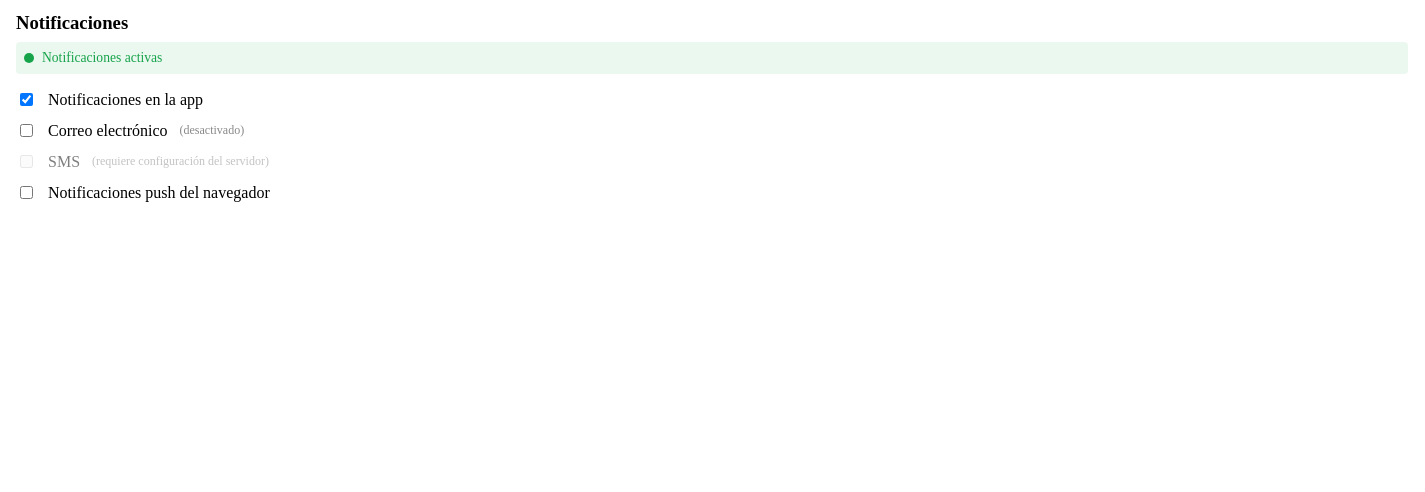
Test: NotificationSettingsForm › DeviceList renders after successful subscribe
The image size is (1425, 492).
Click the checkbox labelled "Notificaciones push del navegador" at (26, 192), box [20,186,33,199]
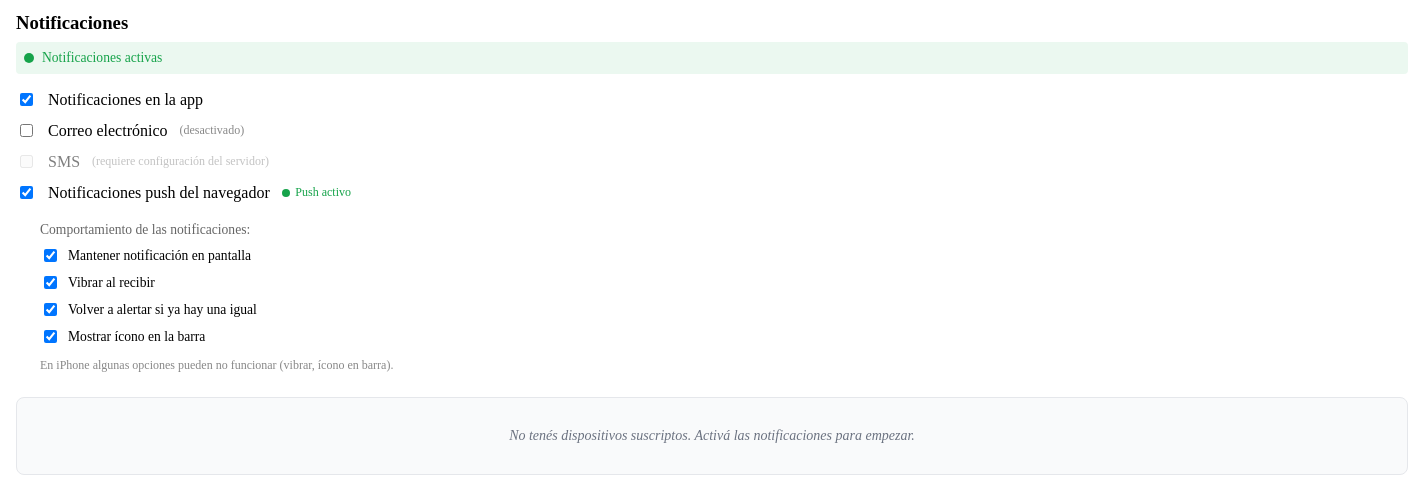
Result: the text "Push activo" is shown at [282,185,351,200]
Result: the text "No tenés dispositivos suscriptos. Activá las notificaciones para empezar." is shown at [509,428,915,443]
